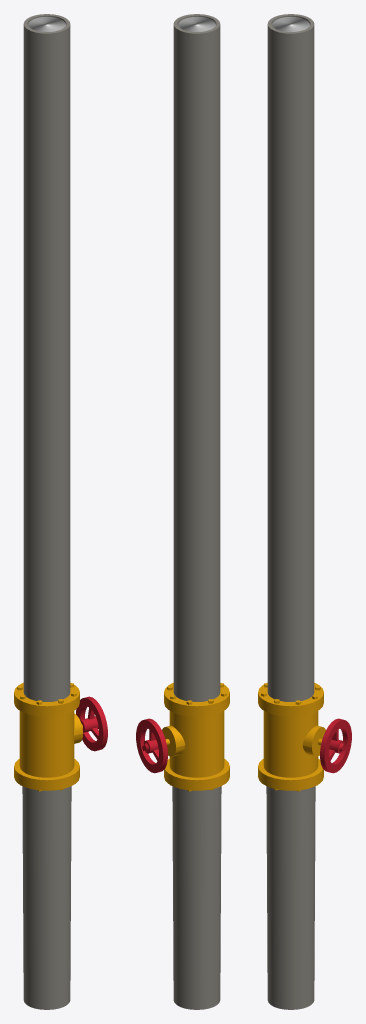
File: pipe.fbx
The picture shows the model from 3 angles, left to right: view 1: azimuth 30°, elevation 25°; view 2: azimuth 210°, elevation 25°; view 3: azimuth 330°, elevation 25°; orthographic projection.
Parts seen in each view (by area): view 1: Pipe_outer, Pipe_middle, Pipe_valve, Pipe_inner; view 2: Pipe_outer, Pipe_middle, Pipe_valve, Pipe_inner; view 3: Pipe_outer, Pipe_middle, Pipe_valve, Pipe_inner.
Part boxes in pixels (x1,y1,x2,y2): Pipe_outer: (22,14,71,1009); Pipe_middle: (14,682,83,791); Pipe_valve: (76,696,107,751); Pipe_inner: (28,17,65,31); Pipe_outer: (172,14,221,1009); Pipe_middle: (162,682,229,791); Pipe_valve: (136,718,167,773); Pipe_inner: (178,17,215,31); Pipe_outer: (266,14,315,1009); Pipe_middle: (258,682,325,791); Pipe_valve: (320,718,351,773); Pipe_inner: (272,17,309,31).
Size of the model in its own units: 43.31 by 500 by 30.6.
